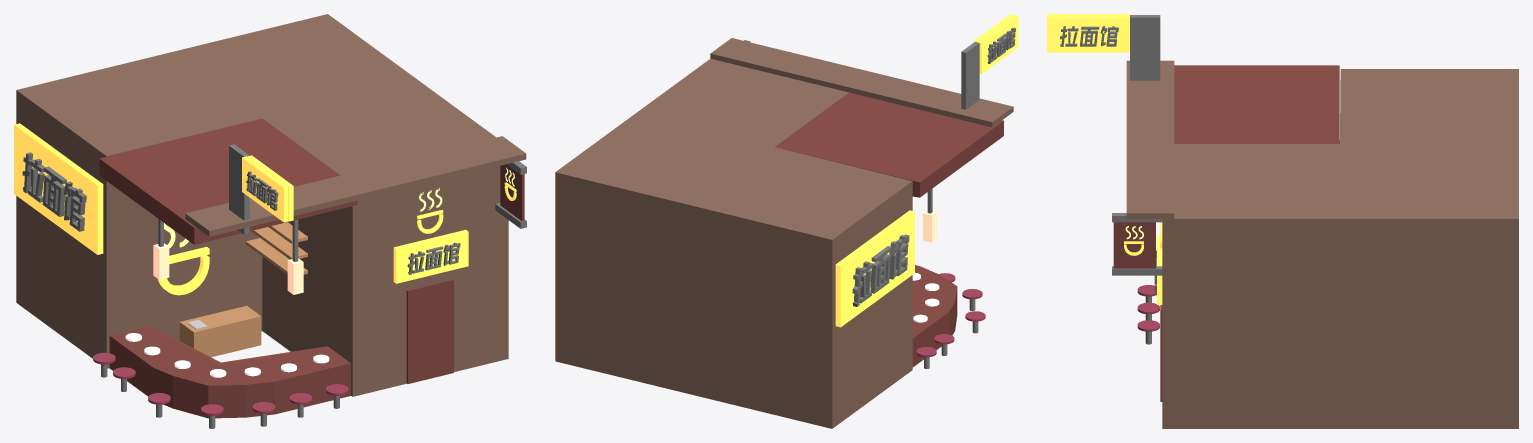
Rendered from ramen.glb.
3 views of the same model, side by side, from view 1: azimuth 30°, elevation 25°; view 2: azimuth 150°, elevation 25°; view 3: azimuth 270°, elevation 25° (orthographic). The views are drawn at different scales.
Visible parts, largest first — view 1: Cube.028, Cube.001, Cube, Cube.016, Text.007, Cube.014, Cube.005, Text, Text.005, Text.002, Cube.015, Cube.013 (+5 smaller); view 2: Cube.028, Cube.001, Cube.016, Text.007, Cube, Text.005, Cube.015; view 3: Cube.028, Cube.001, Cube.016, Text.006, Cube.015, Cube.013.
Part boxes in pixels (<box>): Cube.028: <box>16,14,508,396</box>; Cube.001: <box>99,118,357,244</box>; Cube: <box>109,326,350,418</box>; Cube.016: <box>185,136,526,236</box>; Text.007: <box>14,123,103,254</box>; Cube.014: <box>406,279,453,383</box>; Cube.005: <box>179,305,261,357</box>; Text: <box>393,229,468,283</box>; Text.005: <box>242,156,288,222</box>; Text.002: <box>158,223,209,295</box>; Cube.015: <box>229,144,249,234</box>; Cube.013: <box>500,164,524,221</box>; Cube.028: <box>555,58,912,428</box>; Cube.001: <box>775,92,1003,197</box>; Cube.016: <box>710,38,1013,127</box>; Text.007: <box>835,210,914,327</box>; Cube: <box>912,265,957,367</box>; Text.005: <box>978,15,1018,73</box>; Cube.015: <box>961,42,979,109</box>; Cube.028: <box>1162,69,1518,428</box>; Cube.001: <box>1174,65,1339,143</box>; Cube.016: <box>1126,60,1174,218</box>; Text.006: <box>1047,16,1129,52</box>; Cube.015: <box>1130,15,1160,80</box>; Cube.013: <box>1113,222,1155,268</box>.
Bounding box in the file's own units: 13.16 × 10.76 × 16.49.
